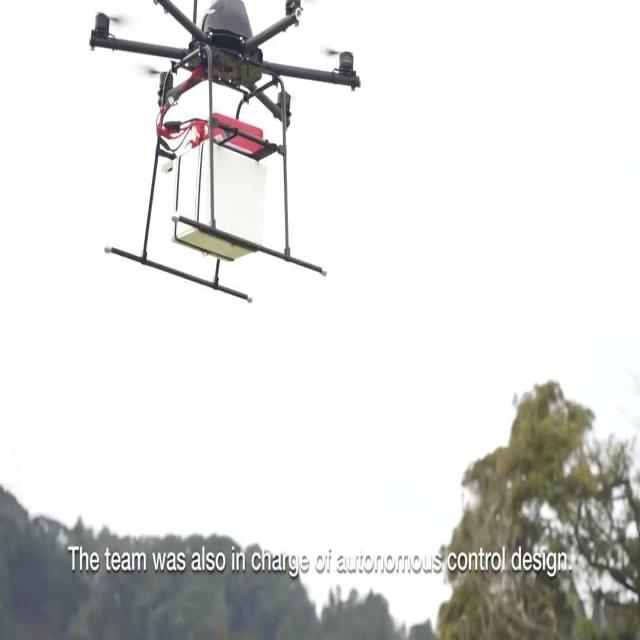UAV: (89, 0, 361, 305)
